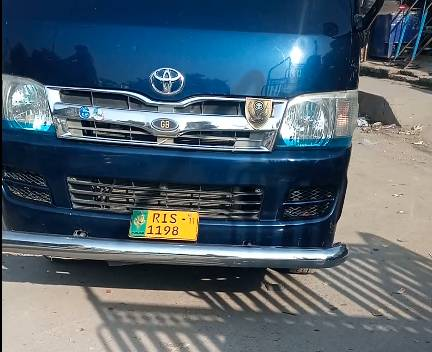number_plate: (128, 209, 200, 240)
